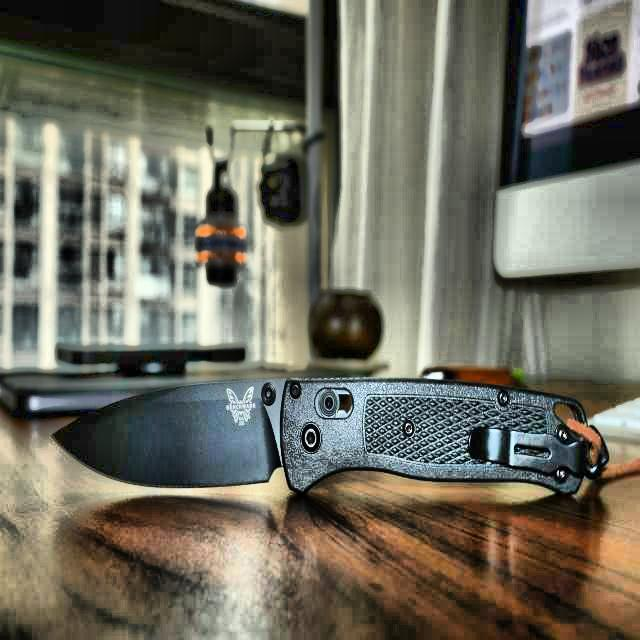knife: (48, 369, 616, 516)
